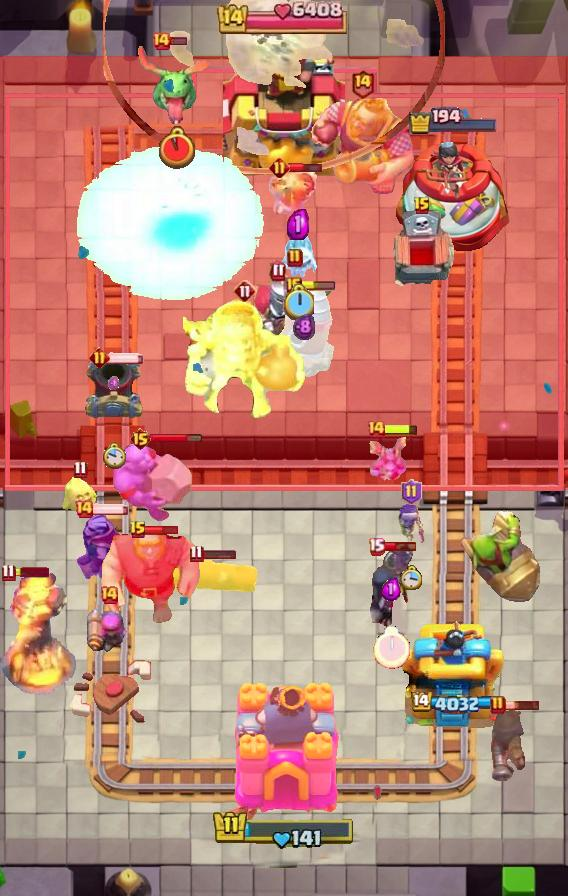archer-queen: (110, 440, 196, 524)
balloon: (100, 527, 202, 625)
bat: (277, 234, 319, 278)
bat-evolution: (60, 473, 100, 517)
bomb-tower: (488, 707, 526, 783)
clock: (212, 809, 356, 851), (217, 0, 351, 34)
electro-dragon: (0, 570, 78, 698)
electro-giant: (183, 298, 307, 422)
electro-spirit: (287, 209, 309, 239), (293, 313, 315, 341), (381, 577, 401, 601), (108, 376, 120, 391)
electro-wizard: (135, 46, 219, 124)
elixir: (374, 626, 411, 669), (159, 127, 195, 170), (283, 284, 313, 320), (102, 442, 126, 470), (400, 565, 423, 590)
elixir-golem-mid: (387, 209, 457, 295)
emote: (149, 432, 202, 443), (288, 161, 323, 175), (383, 424, 419, 437), (107, 352, 145, 364), (92, 503, 130, 515), (503, 699, 540, 711), (382, 540, 418, 552), (201, 548, 237, 560), (144, 524, 179, 536), (300, 281, 336, 291), (13, 567, 49, 577), (168, 36, 187, 46)
giant-skeleton: (306, 95, 418, 197)
goblin: (395, 502, 427, 544)
king-tower: (223, 27, 345, 181), (222, 680, 346, 826)
magic-archer: (274, 284, 334, 378)
mega-knight: (74, 143, 271, 305)
minion: (157, 552, 259, 596)
musketeer: (83, 354, 145, 422)
queen-tower: (390, 137, 516, 255), (399, 617, 507, 731)
rascal-boy: (366, 547, 416, 631)
royal-delivery: (368, 434, 410, 482)
royal-ghost: (103, 0, 445, 174)
selected: (409, 107, 500, 135), (410, 692, 499, 715)
skeleton-dragon: (267, 165, 321, 219)
skeleton-king: (58, 512, 132, 580)
text: (350, 69, 375, 99), (233, 279, 257, 303), (129, 427, 152, 451), (401, 479, 422, 505), (270, 157, 291, 179), (89, 348, 110, 369), (151, 31, 171, 51), (366, 419, 386, 439), (74, 499, 94, 519), (99, 585, 119, 605), (413, 196, 431, 216), (129, 520, 147, 540), (367, 537, 385, 555), (287, 248, 303, 268), (490, 695, 506, 715), (286, 277, 302, 295), (188, 545, 203, 564), (1, 563, 16, 581), (73, 461, 87, 480)
tombstone: (86, 607, 132, 657)
wall-breaker-evolution: (252, 259, 338, 351)
x-bow: (461, 511, 541, 605)
